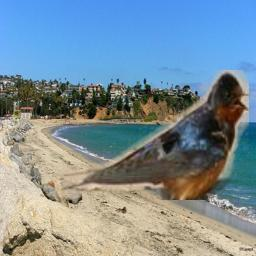Swallow: (61, 70, 249, 200)
